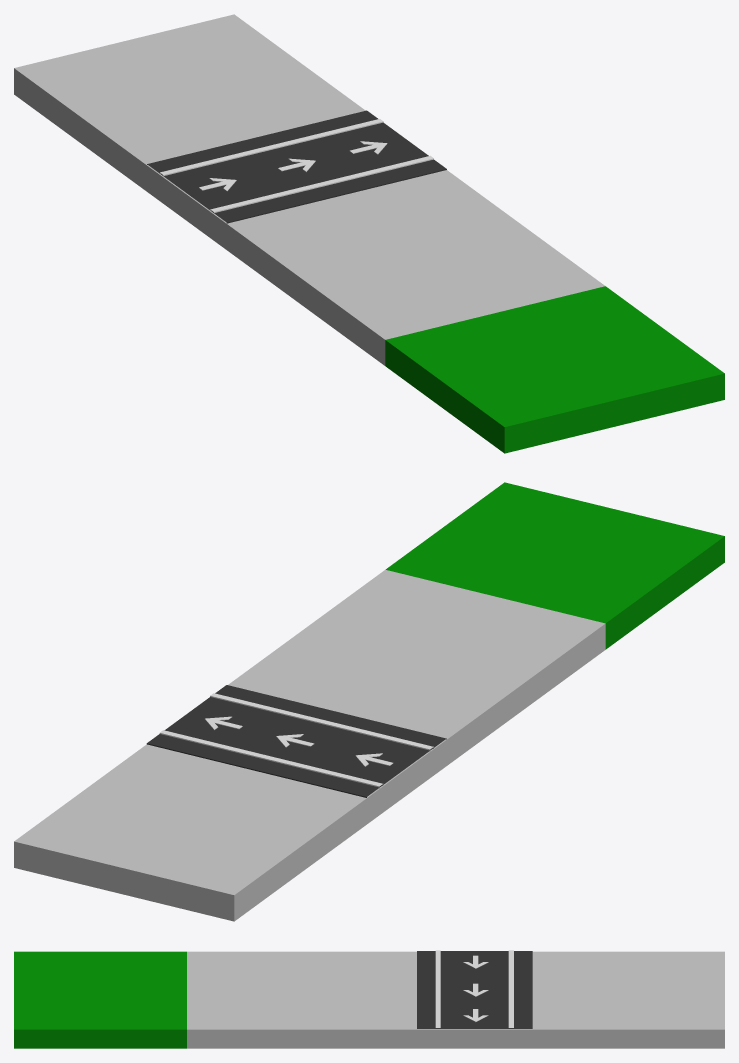
File: LabGround.fbx
3 views of the same model, one above another, from view 1: azimuth 30°, elevation 25°; view 2: azimuth 150°, elevation 25°; view 3: azimuth 270°, elevation 25° (orthographic). The views are drawn at different scales.
Visible parts, largest first — view 1: pCube1, pCube143, pCube147, pCube148; view 2: pCube1, pCube143, pCube147, pCube148; view 3: pCube1, pCube143, pCube147, pCube148.
Part boxes in pixels (bbox=[...]): pCube1: bbox=[14, 14, 724, 453]; pCube143: bbox=[147, 110, 446, 223]; pCube147: bbox=[210, 155, 433, 214]; pCube148: bbox=[160, 119, 383, 177]; pCube1: bbox=[14, 482, 724, 921]; pCube143: bbox=[146, 685, 446, 797]; pCube147: bbox=[210, 693, 433, 751]; pCube148: bbox=[159, 730, 383, 788]; pCube1: bbox=[14, 951, 724, 1048]; pCube143: bbox=[417, 951, 532, 1028]; pCube147: bbox=[435, 950, 440, 1027]; pCube148: bbox=[508, 950, 513, 1027].
Size of the model in its own units: 35.01 by 4.33 by 135.
